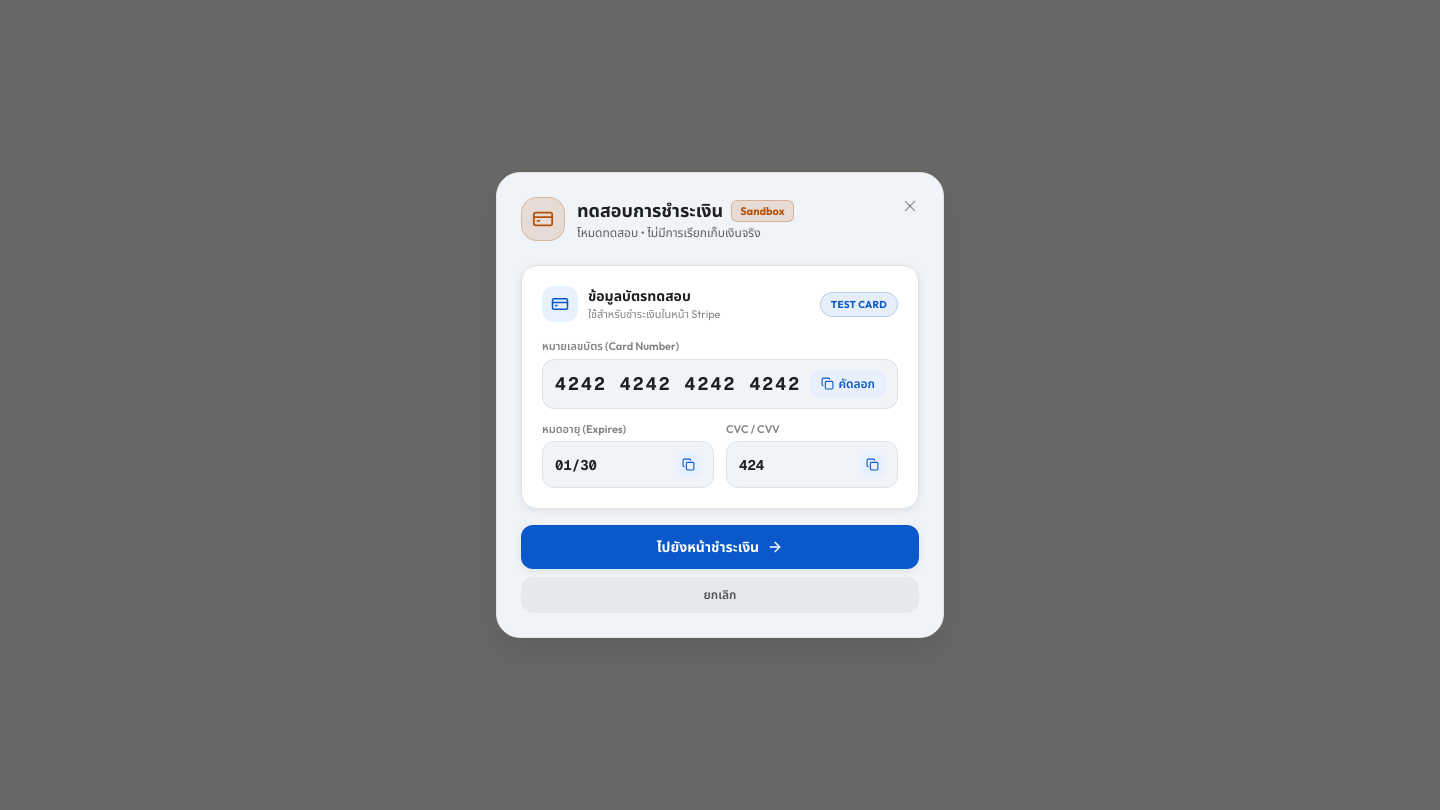
Scenario: SandboxCheckoutModal › copies card number to clipboard when clicking copy button
This screenshot has width=1440, height=810.
Click the button titled "คัดลอกหมายเลขบัตร" at point(848, 384), box [811,370,885,398]
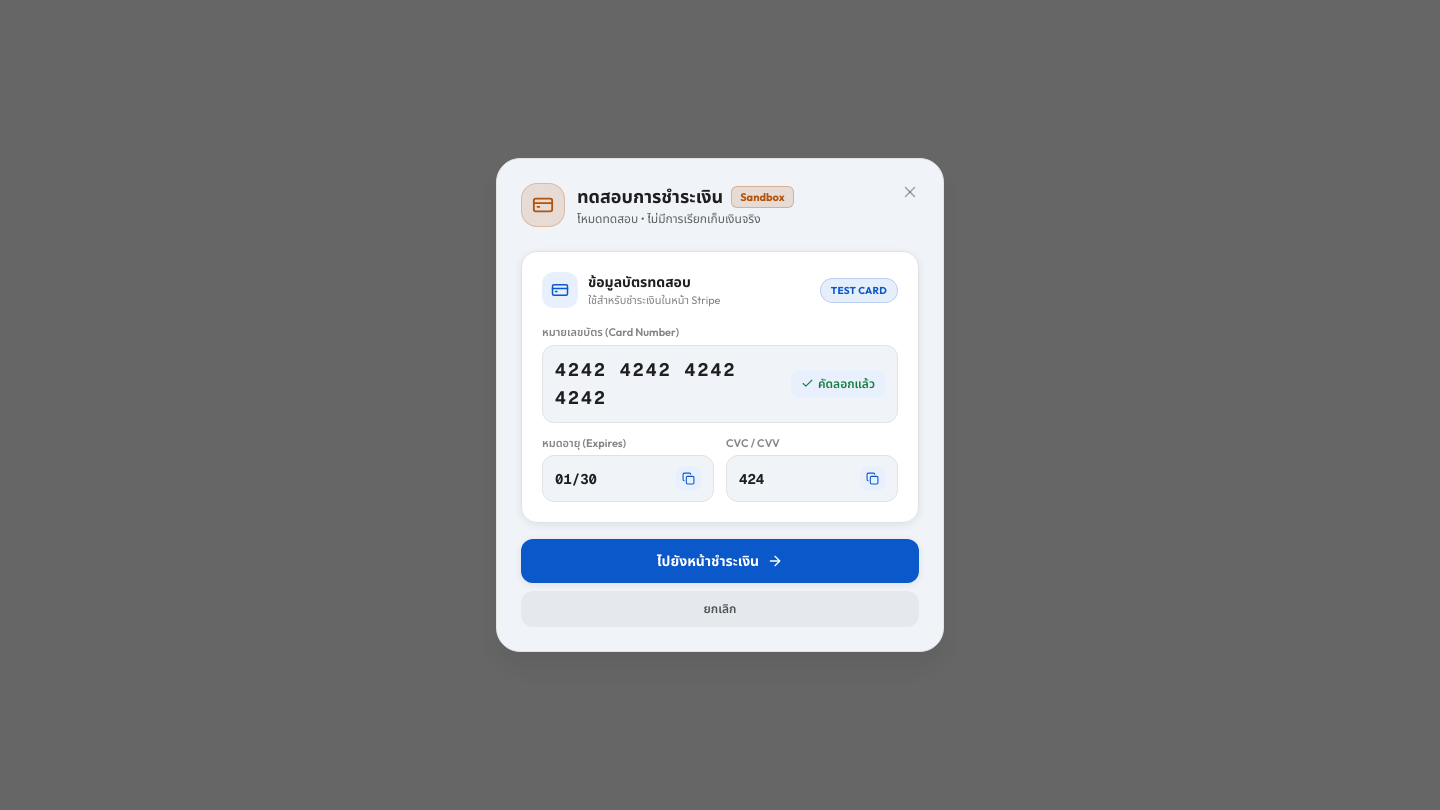
expect the text "คัดลอกแล้ว" is shown: met, box [818,376,875,392]
